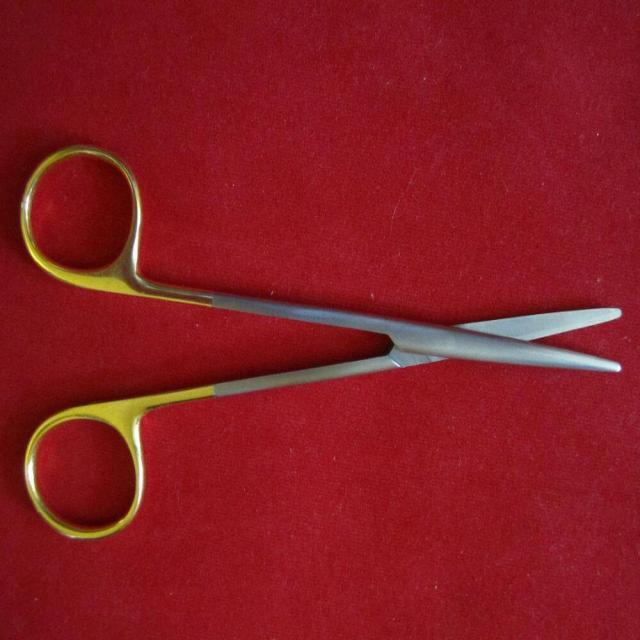Mayo_metz: (17, 138, 628, 546)
